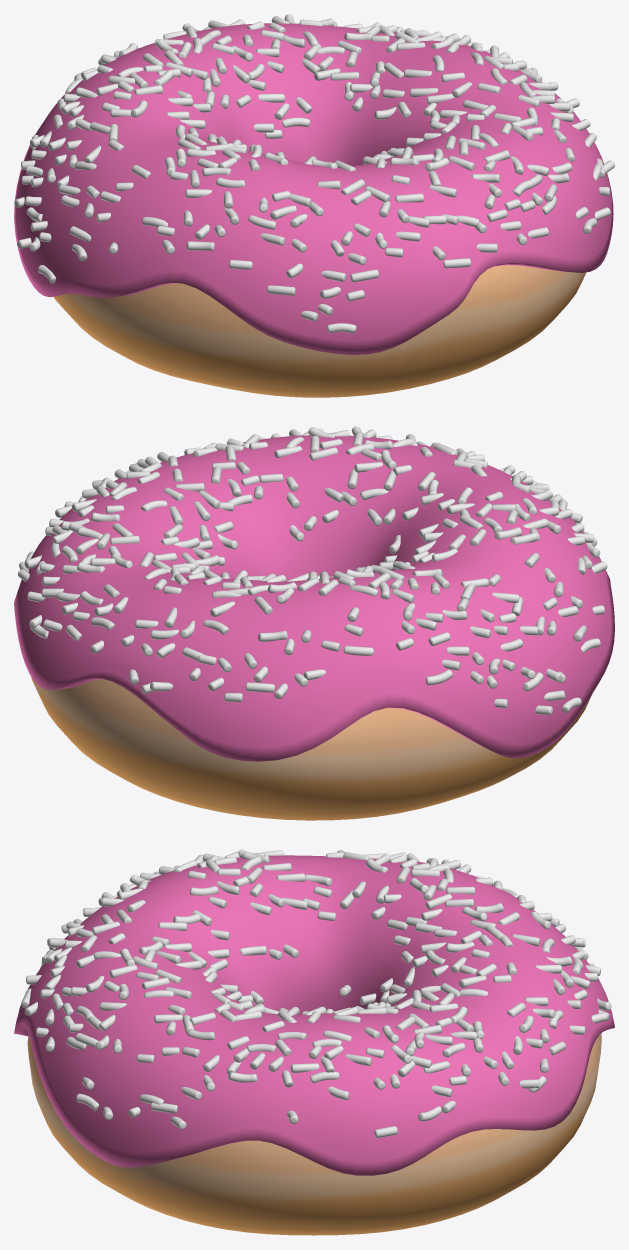
Rendered from Pink.fbx.
3 views of the same model, one above another, from view 1: azimuth 30°, elevation 25°; view 2: azimuth 150°, elevation 25°; view 3: azimuth 270°, elevation 25° (orthographic).
Visible parts, largest first — view 1: Icing, Donut; view 2: Icing, Donut; view 3: Icing, Donut.
Boxes of the visible parts, x1=… form: Icing: x1=14, y1=14, x2=614, y2=354; Donut: x1=53, y1=265, x2=586, y2=397; Icing: x1=14, y1=426, x2=614, y2=761; Donut: x1=31, y1=677, x2=591, y2=820; Icing: x1=14, y1=849, x2=614, y2=1175; Donut: x1=27, y1=1034, x2=601, y2=1235.
Bounding box in the file's own units: 40.2 × 16.48 × 39.97.
3 materials, 1 textured.
